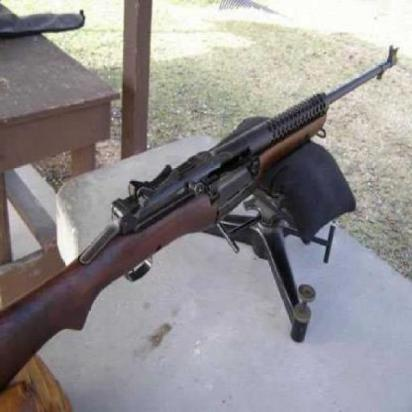Gun: (0, 41, 392, 388)
